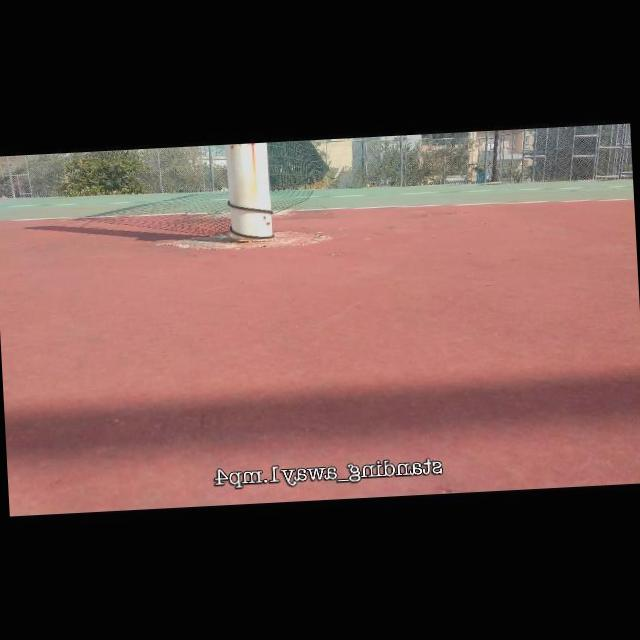Tennis Ball: (367, 185, 370, 188)
